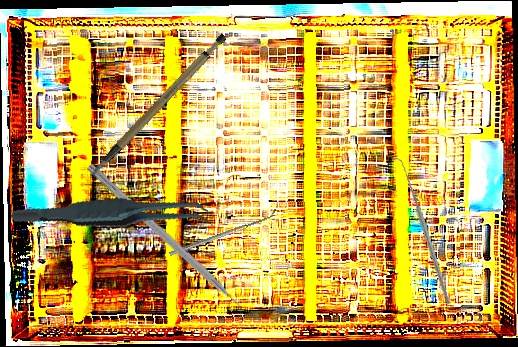Chopper: (78, 162, 254, 329)
Hook Surgical: (365, 157, 478, 305)
Scalpel Handle: (69, 31, 244, 178)
Spatula Surgical: (167, 209, 279, 256)
Tissue Forceps: (10, 165, 217, 263)
